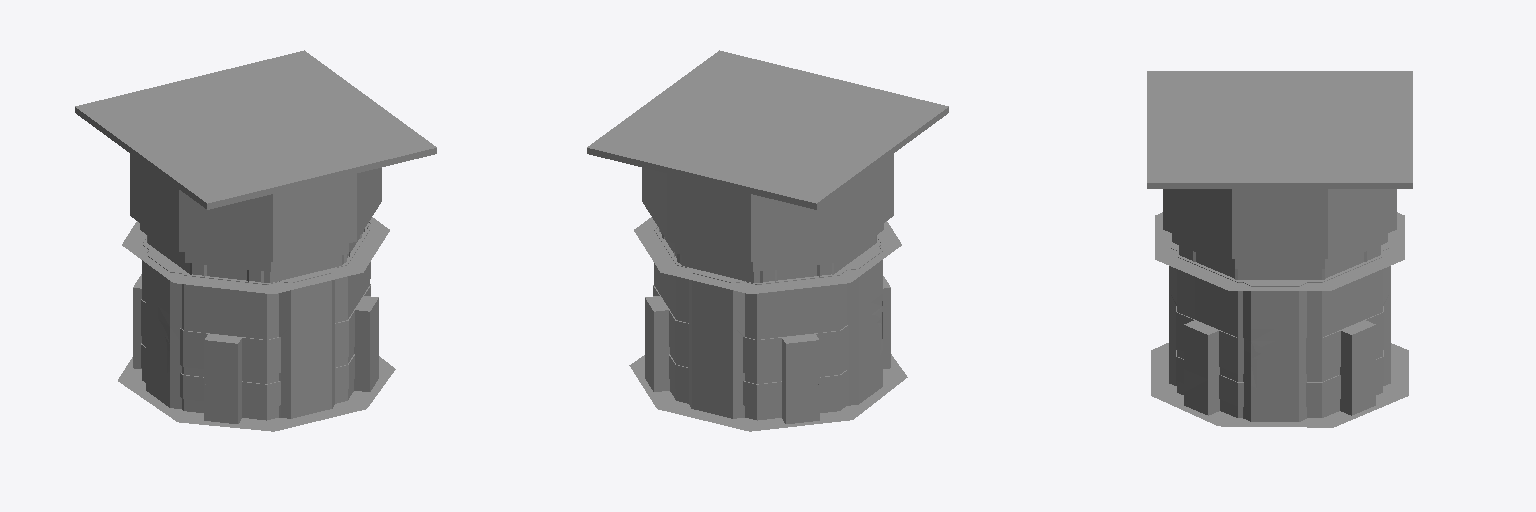
Rendered from MAP_Regal.obj.
3 renders of one model, left to right at view 1: azimuth 30°, elevation 25°; view 2: azimuth 150°, elevation 25°; view 3: azimuth 270°, elevation 25°, orthographic.
Parts seen in each view (by area): view 1: vsn_mesh_8_polySurface18_mesh_8_polySurface18, vsn_mesh_5_polySurface18_mesh_5_polySurface18, vsn_mesh_1_polySurface18_mesh_1_polySurface18, vsn_mesh_2_polySurface18_mesh_2_polySurface18, vsn_mesh_6_polySurface18_mesh_6_polySurface18, vsn_mesh_7_polySurface18_mesh_7_polySurface18; view 2: vsn_mesh_8_polySurface18_mesh_8_polySurface18, vsn_mesh_5_polySurface18_mesh_5_polySurface18, vsn_mesh_1_polySurface18_mesh_1_polySurface18, vsn_mesh_2_polySurface18_mesh_2_polySurface18, vsn_mesh_7_polySurface18_mesh_7_polySurface18, vsn_mesh_6_polySurface18_mesh_6_polySurface18; view 3: vsn_mesh_8_polySurface18_mesh_8_polySurface18, vsn_mesh_5_polySurface18_mesh_5_polySurface18, vsn_mesh_1_polySurface18_mesh_1_polySurface18, vsn_mesh_2_polySurface18_mesh_2_polySurface18, vsn_mesh_6_polySurface18_mesh_6_polySurface18, vsn_mesh_7_polySurface18_mesh_7_polySurface18.
Part boxes in pixels (x1,y1,x2,y2): vsn_mesh_8_polySurface18_mesh_8_polySurface18: (75, 50, 436, 209); vsn_mesh_5_polySurface18_mesh_5_polySurface18: (122, 154, 389, 418); vsn_mesh_1_polySurface18_mesh_1_polySurface18: (133, 222, 378, 423); vsn_mesh_2_polySurface18_mesh_2_polySurface18: (118, 356, 395, 431); vsn_mesh_6_polySurface18_mesh_6_polySurface18: (146, 284, 378, 423); vsn_mesh_7_polySurface18_mesh_7_polySurface18: (150, 329, 325, 408); vsn_mesh_8_polySurface18_mesh_8_polySurface18: (587, 50, 948, 209); vsn_mesh_5_polySurface18_mesh_5_polySurface18: (634, 154, 901, 418); vsn_mesh_1_polySurface18_mesh_1_polySurface18: (645, 227, 890, 423); vsn_mesh_2_polySurface18_mesh_2_polySurface18: (629, 354, 907, 431); vsn_mesh_7_polySurface18_mesh_7_polySurface18: (698, 326, 878, 408); vsn_mesh_6_polySurface18_mesh_6_polySurface18: (645, 284, 882, 423); vsn_mesh_8_polySurface18_mesh_8_polySurface18: (1147, 71, 1412, 188); vsn_mesh_5_polySurface18_mesh_5_polySurface18: (1155, 189, 1404, 421); vsn_mesh_1_polySurface18_mesh_1_polySurface18: (1169, 248, 1390, 421); vsn_mesh_2_polySurface18_mesh_2_polySurface18: (1151, 343, 1408, 427); vsn_mesh_6_polySurface18_mesh_6_polySurface18: (1184, 307, 1375, 414); vsn_mesh_7_polySurface18_mesh_7_polySurface18: (1259, 353, 1291, 414).
Bounding box in the file's own units: 16.21 × 17.37 × 16.21.